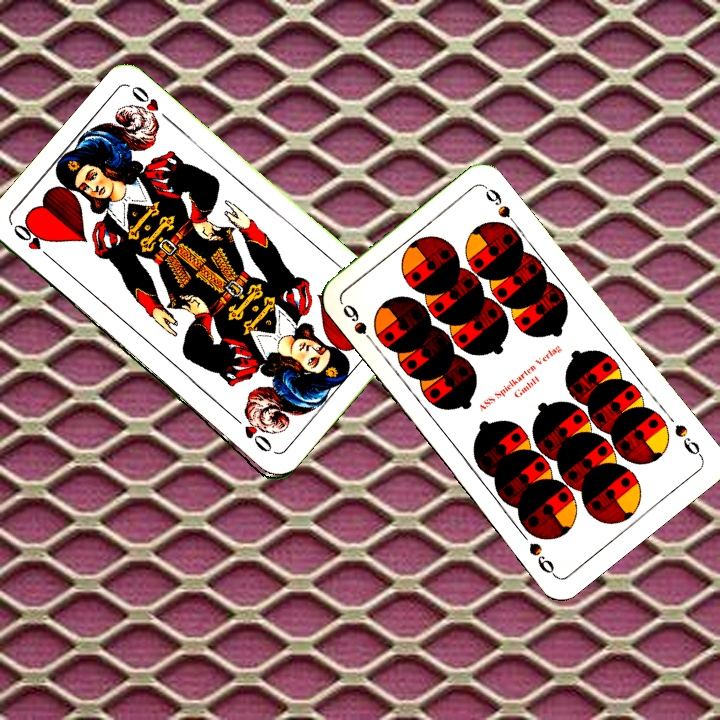HO: (9, 220, 57, 265)
S9: (338, 300, 379, 350), (670, 420, 706, 461)
